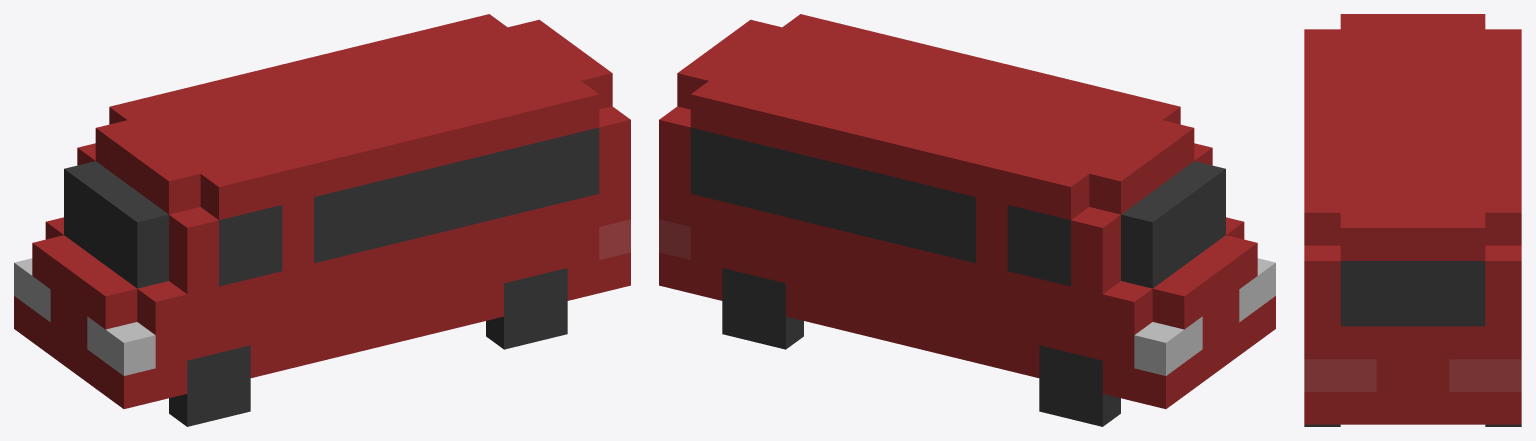
The model's file is bus-small-red.gltf.
The picture shows the model from 3 angles, left to right: view 1: azimuth 30°, elevation 25°; view 2: azimuth 150°, elevation 25°; view 3: azimuth 270°, elevation 25°; orthographic projection.
Visible parts, largest first — view 1: model, wheels; view 2: model, wheels; view 3: model, wheels.
Part boxes in pixels (<box>): model: <box>14,14,630,408</box>; wheels: <box>169,268,567,426</box>; model: <box>659,14,1275,408</box>; wheels: <box>722,268,1120,426</box>; model: <box>1304,14,1521,424</box>; wheels: <box>1304,424,1521,426</box>.
Size of the model in its own units: 1.6 by 0.7 by 0.6.
2 materials, 2 textured.
